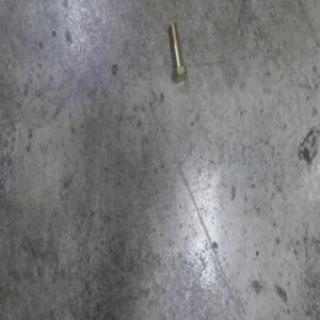Bolttrack_idkeyframe: (168, 20, 187, 81)
